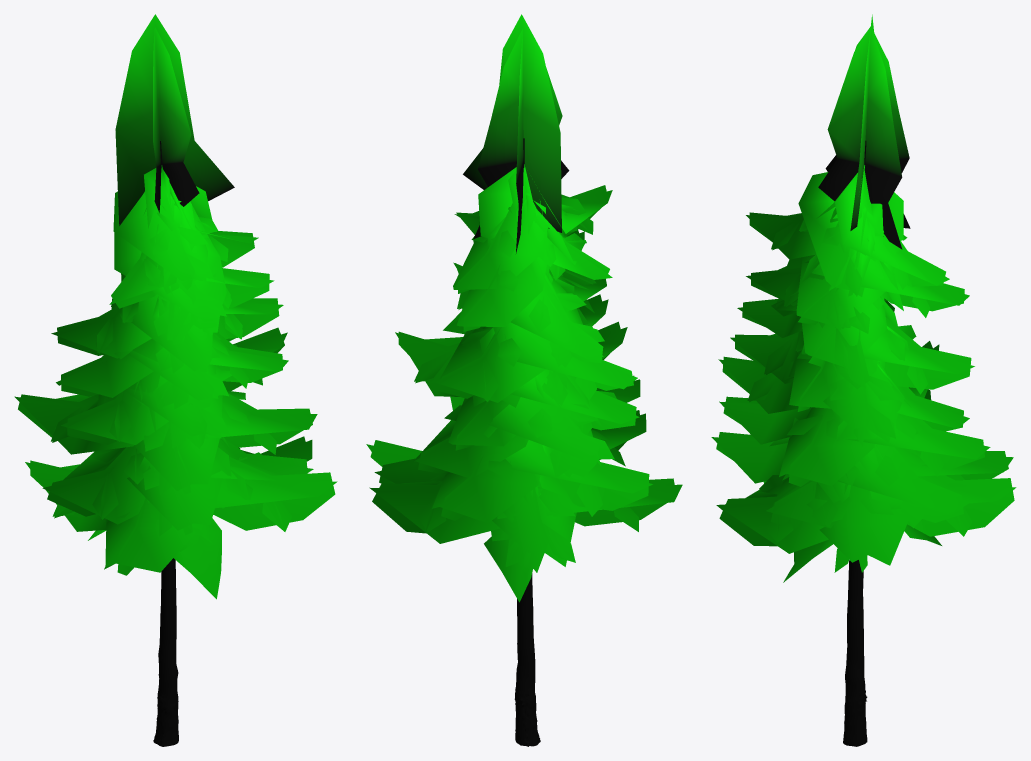
Rendered from pine_004_3_0.FBX.
The picture shows the model from 3 angles, left to right: view 1: azimuth 30°, elevation 25°; view 2: azimuth 150°, elevation 25°; view 3: azimuth 270°, elevation 25°; orthographic projection.
Visible parts, largest first — view 1: pine_004_03_0_LOD0; view 2: pine_004_03_0_LOD0; view 3: pine_004_03_0_LOD0.
Part boxes in pixels (x1,y1,x2,y2): pine_004_03_0_LOD0: (14, 14, 337, 746); pine_004_03_0_LOD0: (366, 14, 682, 746); pine_004_03_0_LOD0: (711, 14, 1016, 746).
Size of what is drawn, in the model's own units: 170 by 424 by 162.
